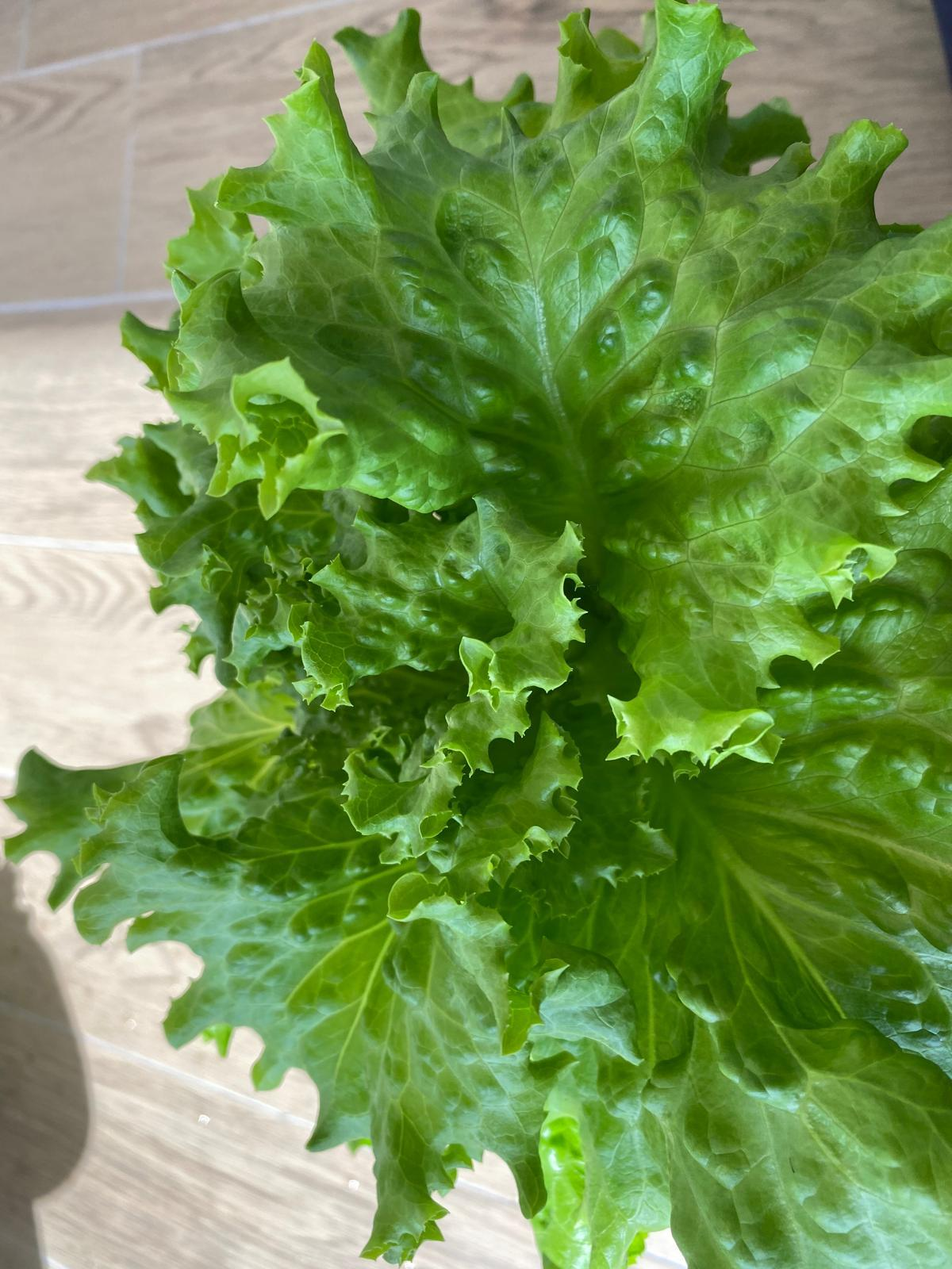Healthy: (3, 8, 952, 1269)
